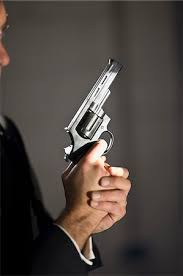gun: (59, 56, 129, 180)
